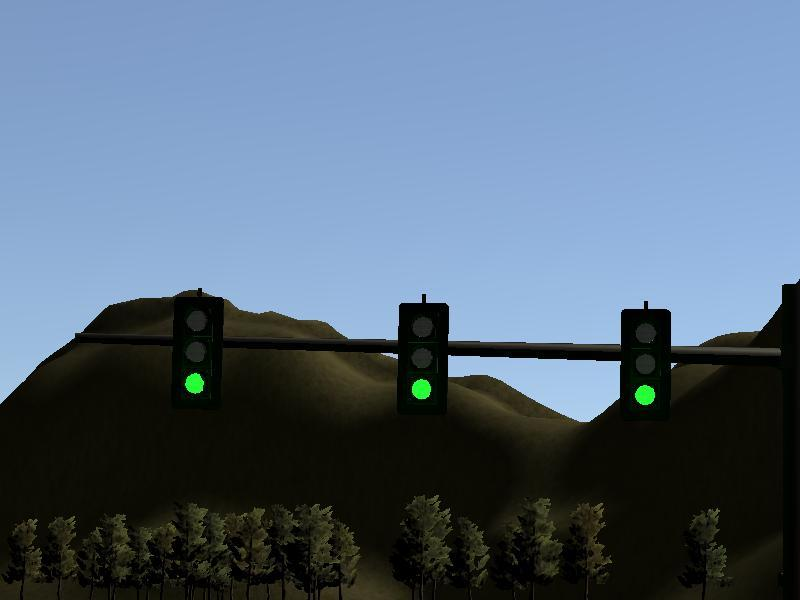Green: (171, 297, 223, 409), (619, 309, 671, 421), (396, 302, 448, 414)
